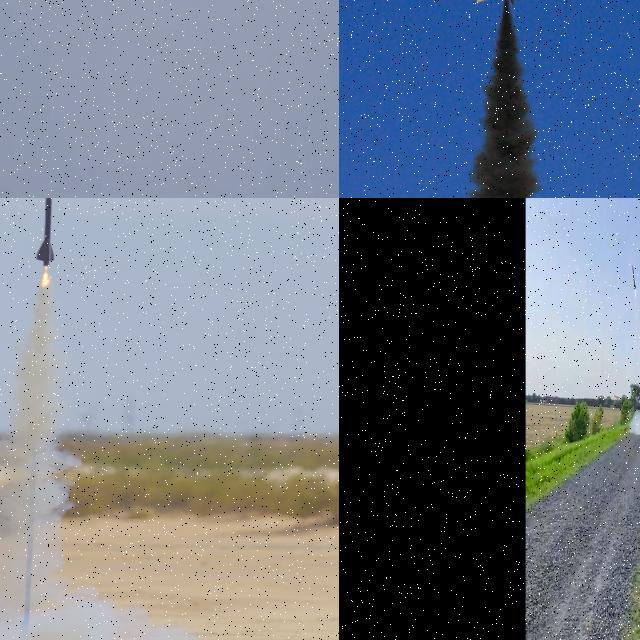Rocket: (37, 198, 56, 266), (633, 266, 636, 290), (298, 156, 303, 163)
